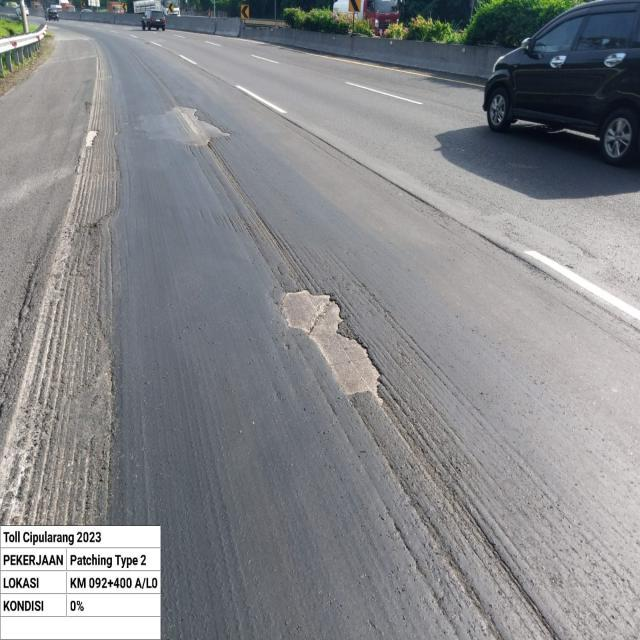Buraco: (276, 286, 391, 411), (132, 103, 234, 149), (82, 128, 100, 149)
